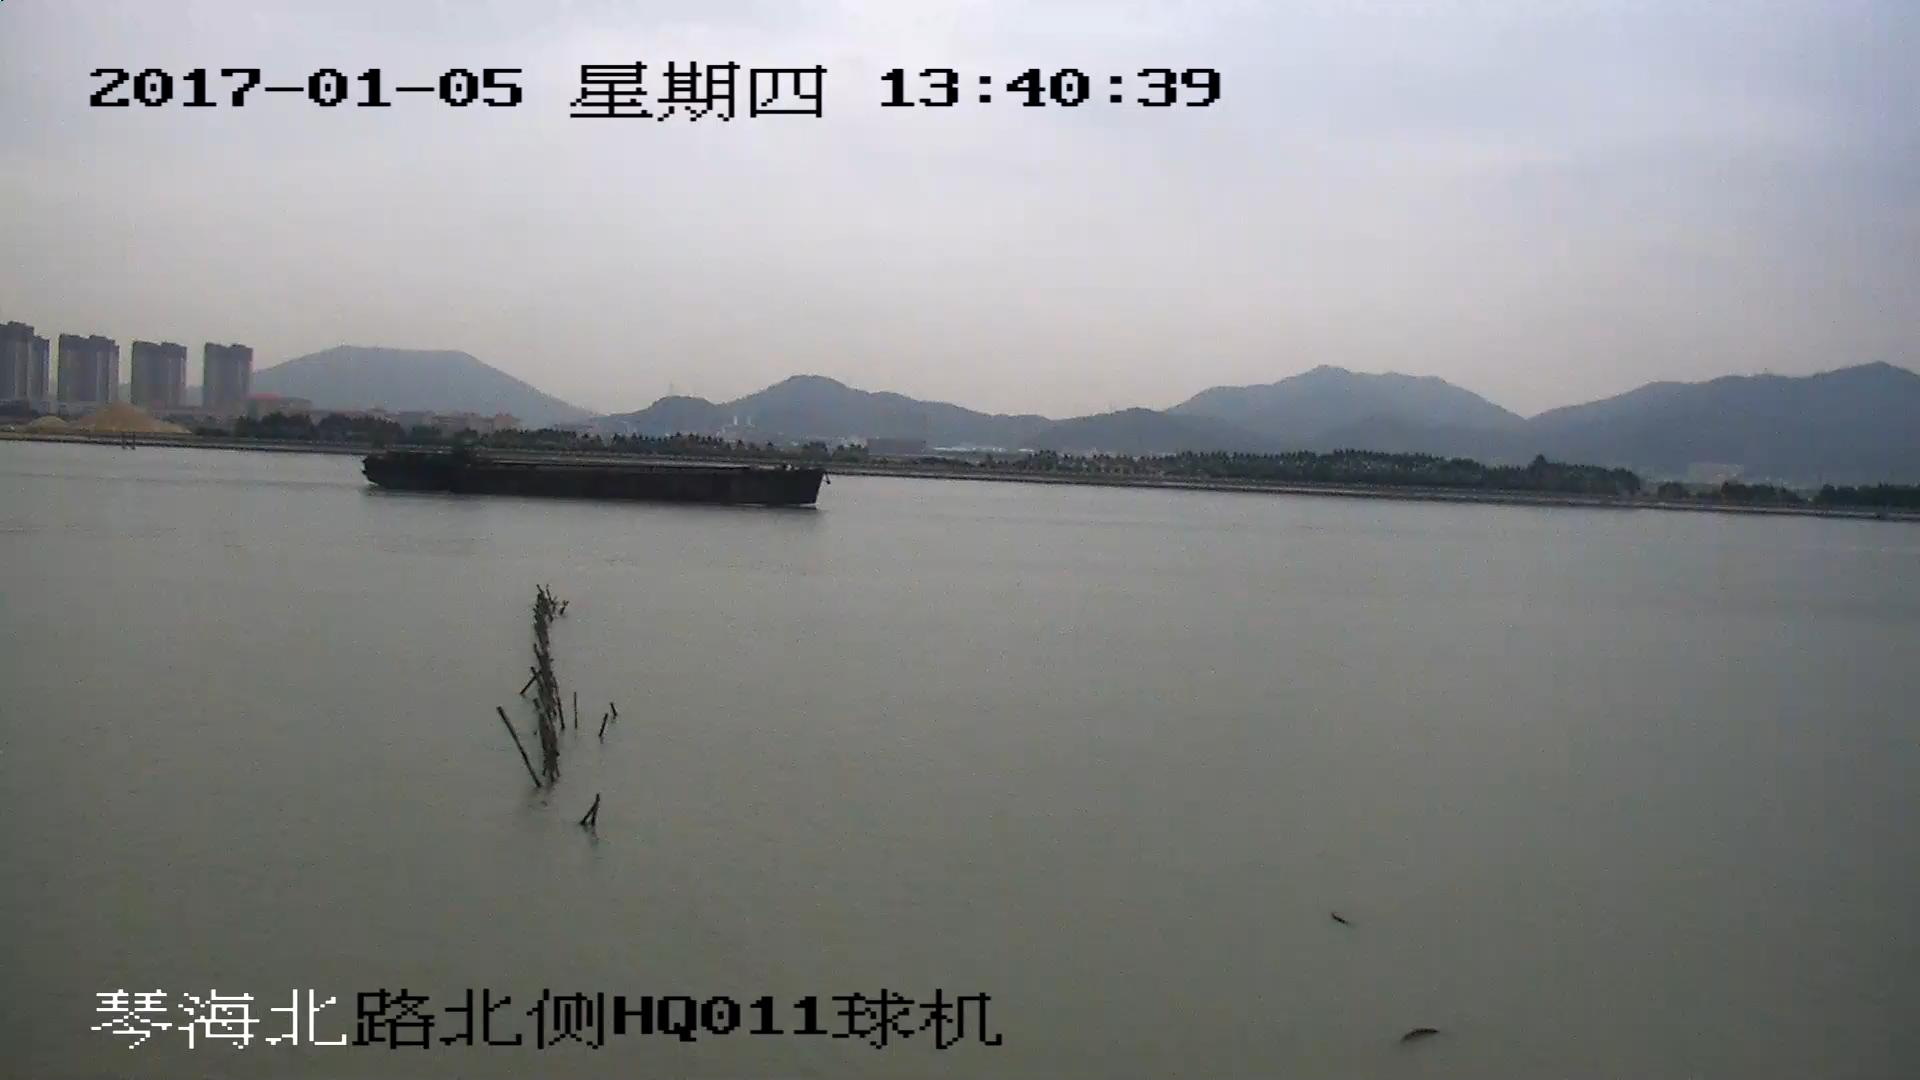bulk cargo carrier: (365, 442, 828, 508)
